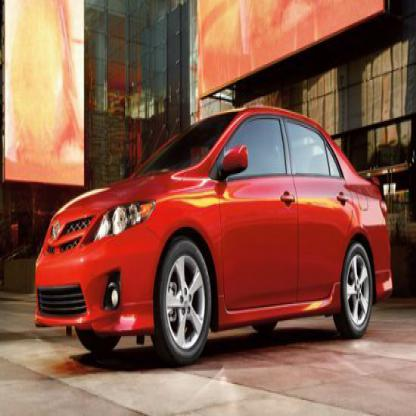car: (34, 108, 395, 368)
